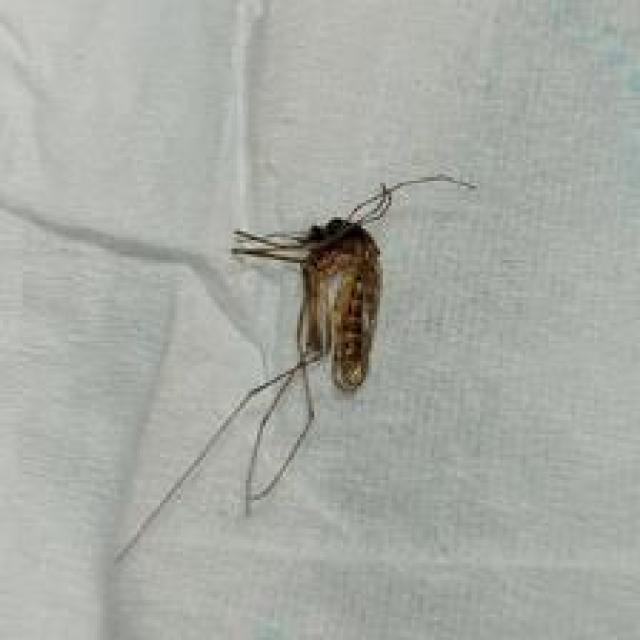Culex: (112, 170, 477, 564)
